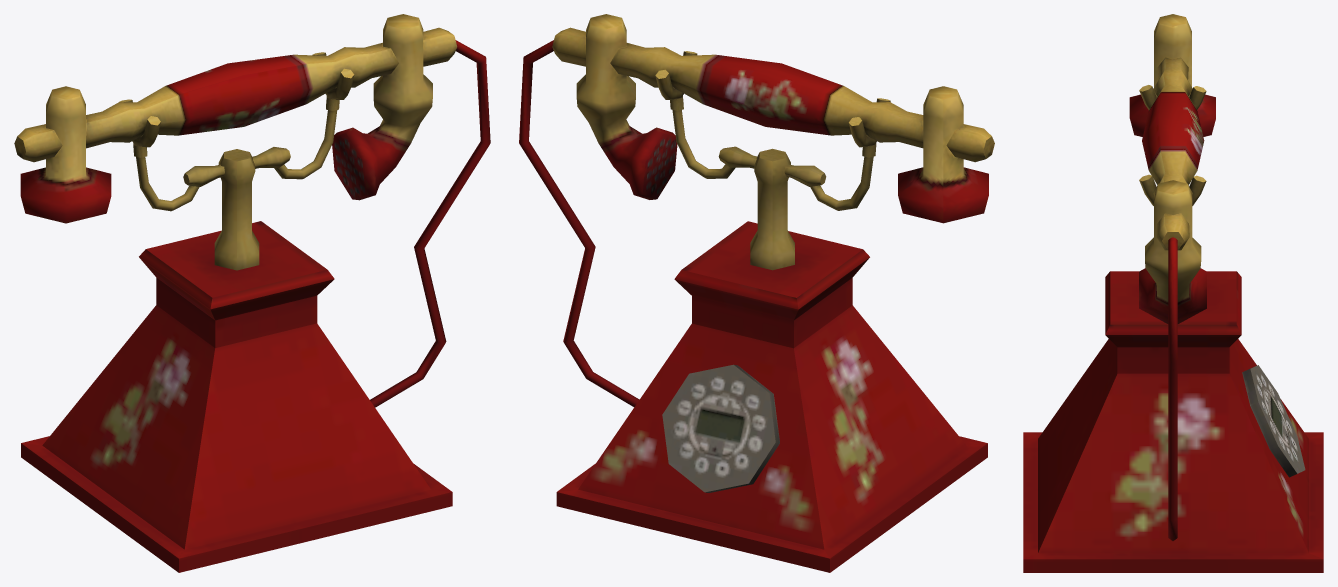
File: furni_0200446.FBX
The picture shows the model from 3 angles, left to right: view 1: azimuth 30°, elevation 25°; view 2: azimuth 150°, elevation 25°; view 3: azimuth 270°, elevation 25°; orthographic projection. The views are drawn at different scales.
Visible parts, largest first — view 1: furni_0200446; view 2: furni_0200446; view 3: furni_0200446.
Boxes of the visible parts, x1=… form: furni_0200446: x1=14, y1=14, x2=490, y2=572; furni_0200446: x1=519, y1=14, x2=994, y2=572; furni_0200446: x1=1023, y1=14, x2=1323, y2=572.
Size of the model in its own units: 51.58 by 45.14 by 30.
